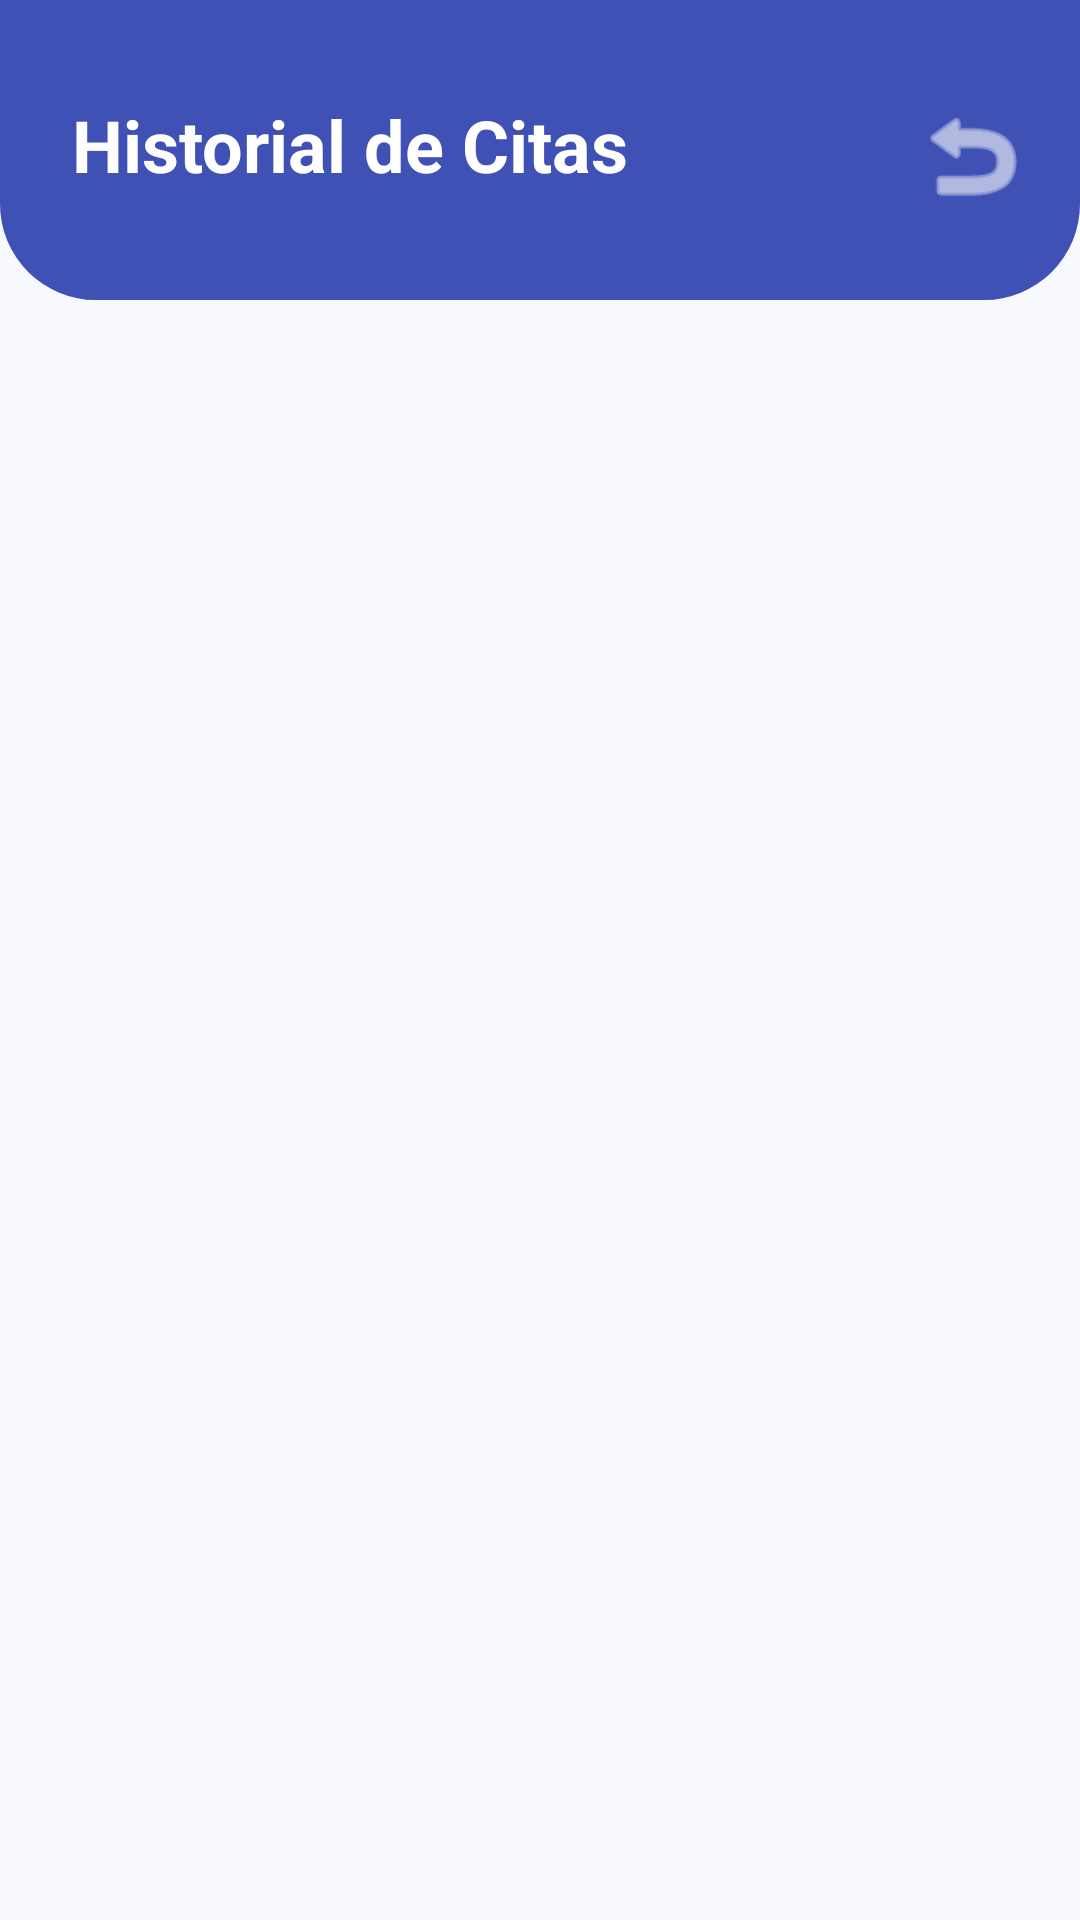

Icon bounding boxes for this 1080px×1920px phone screenshot, format (x1, y1, x2, y2):
revert: (930, 118, 1017, 196)
